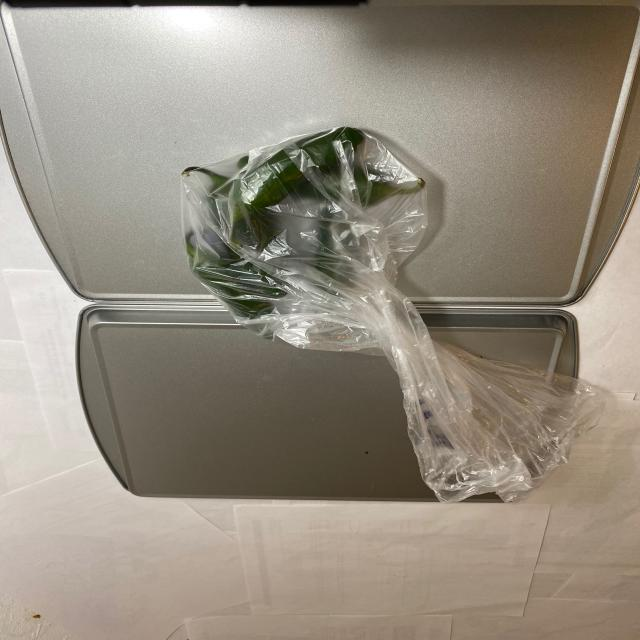chilli: (178, 128, 431, 332)
